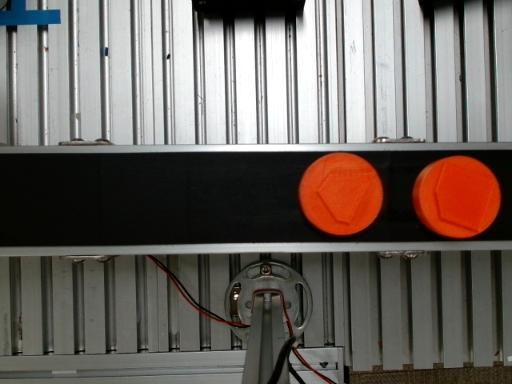Not_Square: (435, 162, 494, 231), (317, 170, 376, 224)
Orange_Waper: (414, 156, 500, 238), (299, 153, 382, 235)
